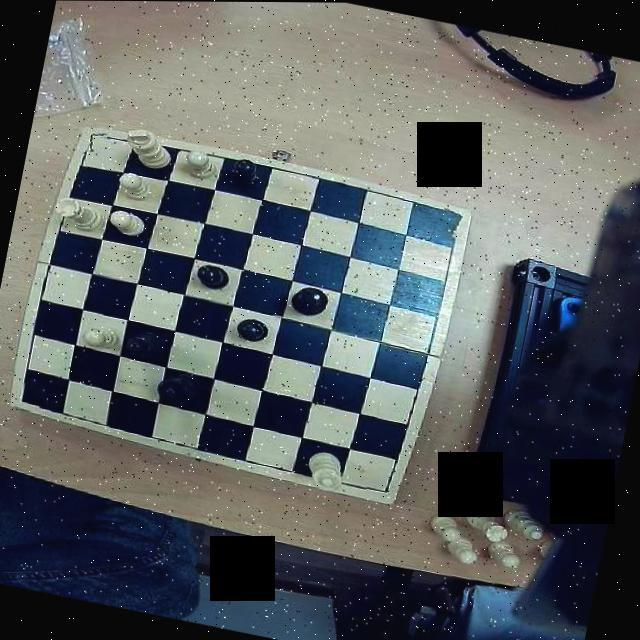chess-table-corners: (434, 202, 470, 238), (366, 466, 399, 500), (13, 382, 44, 413), (78, 124, 110, 154)
